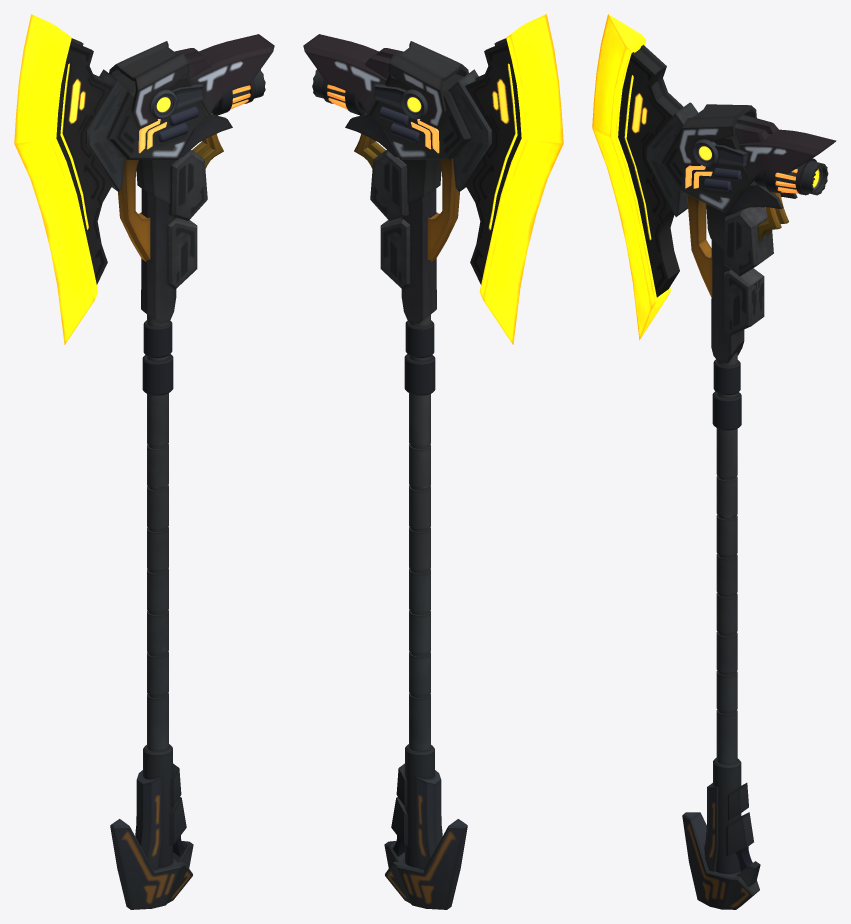
File: Solitude_Ember.fbx
3 views of the same model, side by side, from view 1: azimuth 30°, elevation 25°; view 2: azimuth 150°, elevation 25°; view 3: azimuth 330°, elevation 25° (orthographic). The views are drawn at different scales.
Visible parts, largest first — view 1: Body; view 2: Body; view 3: Body.
Part boxes in pixels (x1=…): Body: x1=14, y1=14, x2=274, y2=909; Body: x1=303, y1=14, x2=563, y2=909; Body: x1=592, y1=14, x2=836, y2=909.
Size of the model in its own units: 47.89 by 166 by 10.39.
1 material, 1 textured.
